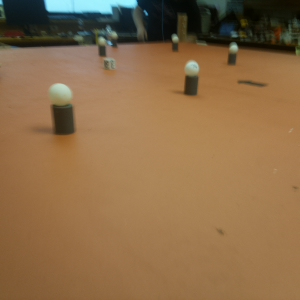blockE: (104, 59, 117, 71)
corner: (178, 15, 188, 36)
obstacle: (50, 82, 75, 144), (183, 59, 200, 99), (227, 42, 239, 69), (98, 36, 106, 58), (111, 31, 118, 50), (172, 36, 179, 54)
start: (236, 79, 269, 90)
